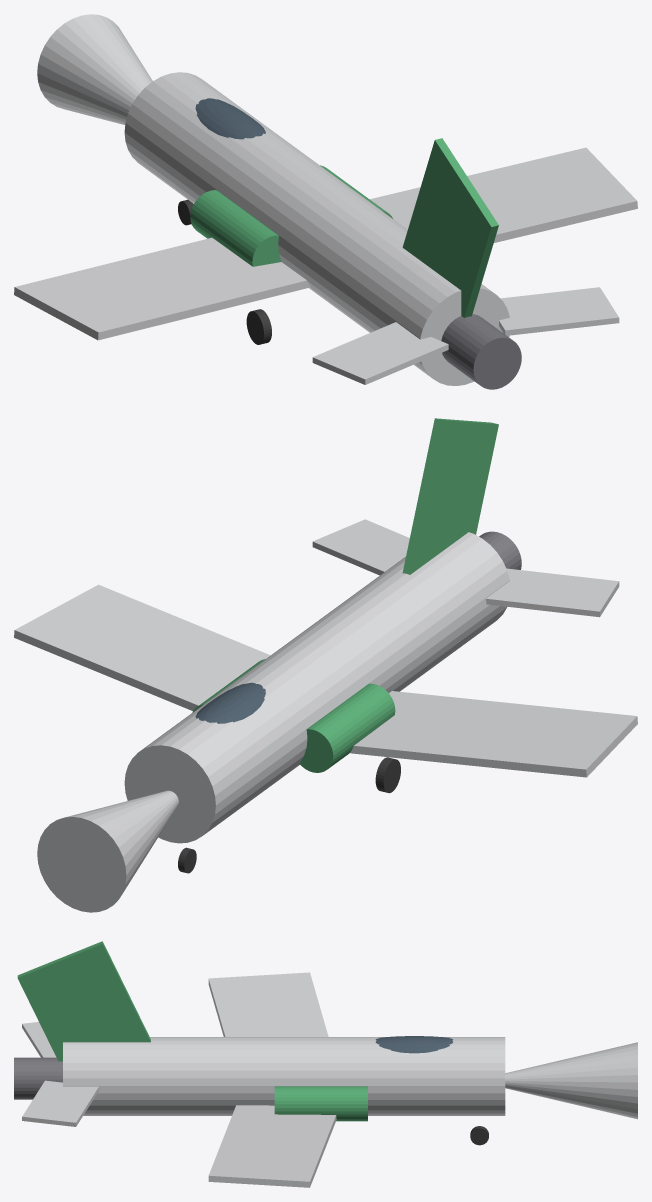
The model's file is hongdu_jl8.glb.
3 renders of one model, top to bottom at view 1: azimuth 30°, elevation 25°; view 2: azimuth 150°, elevation 25°; view 3: azimuth 270°, elevation 25°, orthographic. The views are drawn at different scales.
Visible parts, largest first — view 1: JL8_Fuselage, Cube.004, Cube.002, Cube, Cone, Cube.003, Cube.001, Cylinder.002, Cylinder.001, Sphere, Cylinder.005; view 2: JL8_Fuselage, Cube.004, Cube.002, Cone, Cube, Cube.003, Cylinder.001, Cube.001, Sphere, Cylinder.002, Cylinder.005; view 3: JL8_Fuselage, Cube, Cube.002, Cube.004, Cone, Cylinder, Cube.001, Cylinder.002, Sphere, Cube.003.
Part boxes in pixels (x1,y1,x2,y2): JL8_Fuselage: (124,72,509,385); Cube.004: (14,237,310,340); Cube.002: (370,147,637,242); Cube: (402,138,498,317); Cone: (37,14,152,124); Cube.003: (312,322,448,384); Cube.001: (499,287,619,335); Cylinder.002: (441,314,521,389); Cylinder.001: (190,190,281,266); Sphere: (195,98,265,139); Cylinder.005: (246,309,271,344); JL8_Fuselage: (124,532,509,843); Cube.004: (349,691,637,777); Cube.002: (14,584,270,710); Cone: (37,790,178,912); Cube: (402,418,498,574); Cube.003: (486,568,619,617); Cylinder.001: (299,683,395,772); Cube.001: (312,519,409,575); Sphere: (195,682,265,723); Cylinder.002: (479,531,521,569); Cylinder.005: (375,757,400,793); JL8_Fuselage: (63,1037,505,1115); Cube: (17,941,150,1061); Cube.002: (208,1105,336,1187); Cube.004: (208,972,328,1036); Cone: (505,1042,637,1119); Cylinder: (274,1086,367,1121); Cube.001: (22,1080,98,1126); Cylinder.002: (14,1057,62,1099); Sphere: (375,1036,452,1053); Cube.003: (22,1022,56,1057).
Size of the model in its own units: 10.66 by 4.84 by 13.4.
